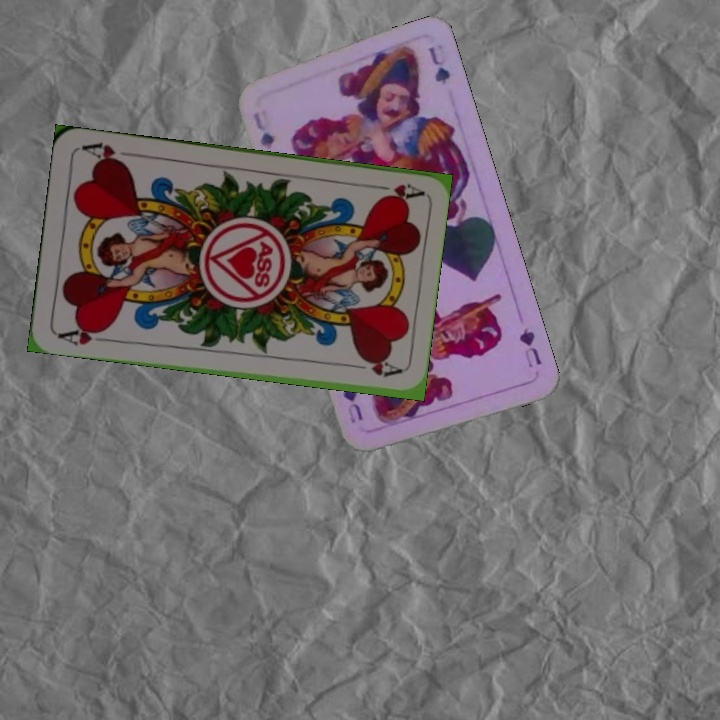GU: (515, 323, 544, 371), (249, 108, 277, 152)
HA: (54, 322, 109, 349), (365, 180, 424, 203)
